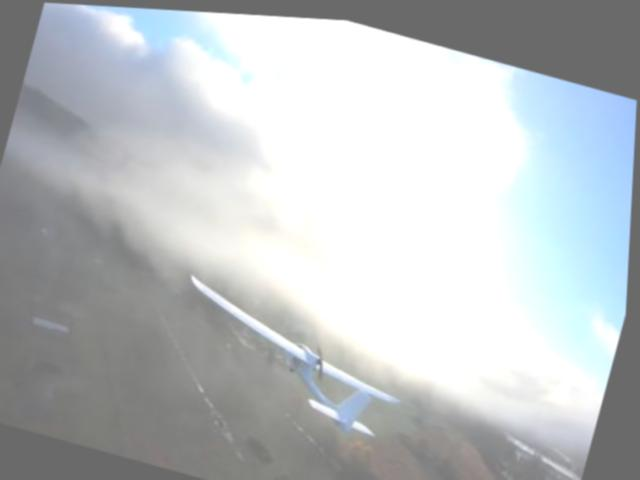uav: (154, 262, 431, 455)
